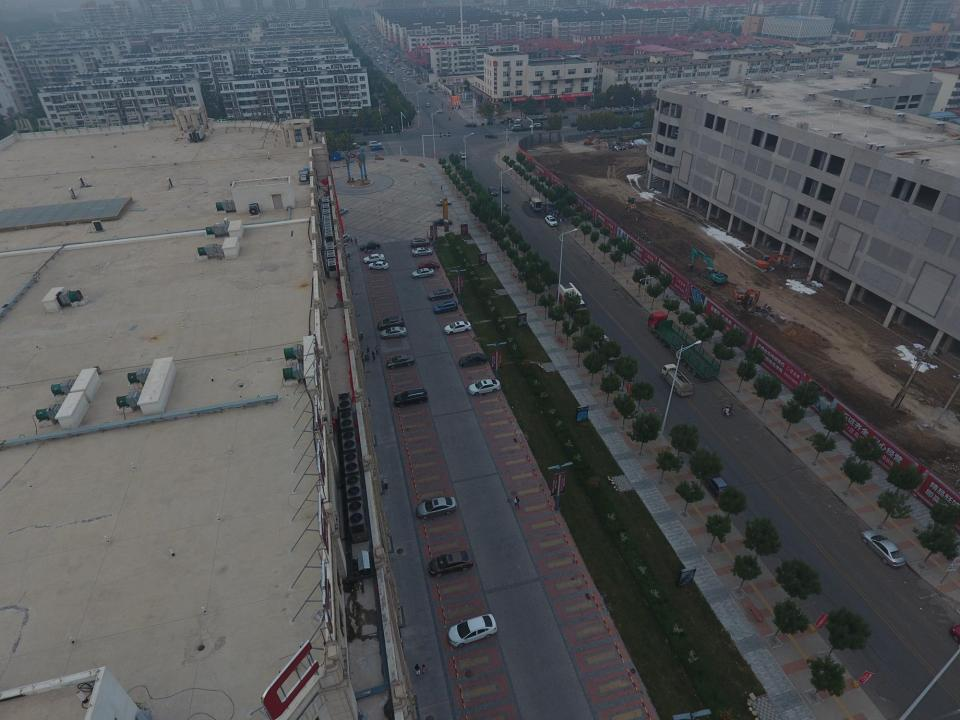car: (447, 614, 498, 648), (861, 530, 906, 568), (428, 550, 474, 578), (416, 496, 458, 519), (702, 470, 731, 501), (394, 388, 428, 408), (468, 378, 501, 395), (458, 352, 488, 368), (376, 316, 404, 332), (387, 354, 416, 369), (380, 326, 407, 340), (444, 321, 471, 334), (433, 300, 458, 314), (428, 288, 453, 300), (412, 267, 434, 279), (411, 247, 433, 257), (359, 241, 381, 251), (364, 253, 384, 264), (418, 261, 440, 270), (368, 261, 388, 270), (336, 234, 351, 245), (330, 208, 348, 217), (410, 238, 430, 246), (545, 215, 558, 227), (434, 219, 452, 226), (488, 186, 498, 196), (436, 200, 451, 206), (528, 123, 541, 129), (500, 186, 509, 193), (371, 145, 383, 150), (465, 122, 477, 127), (486, 133, 497, 138), (538, 115, 547, 120), (516, 116, 523, 122), (414, 109, 420, 114), (437, 109, 442, 114), (426, 103, 430, 107)
truck: (647, 312, 721, 381), (660, 363, 693, 396), (556, 283, 586, 316), (529, 197, 542, 211)
van: (369, 141, 381, 147), (349, 142, 360, 148), (511, 124, 521, 130), (459, 152, 466, 160)
